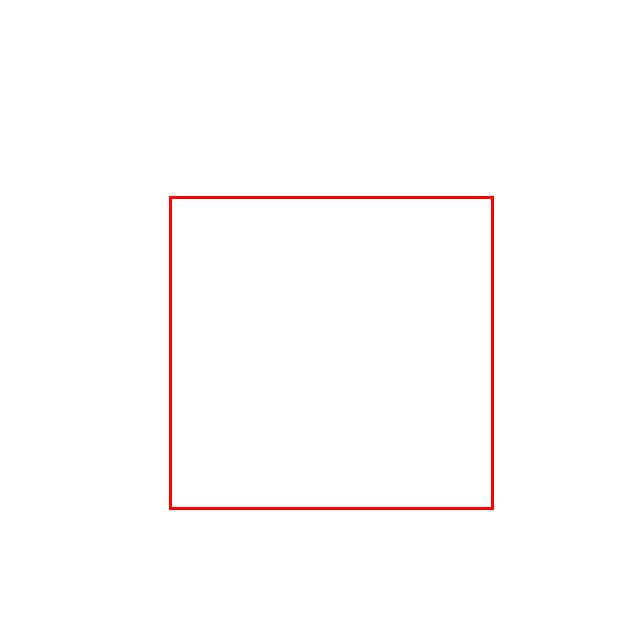Sprite: (169, 196, 493, 509)
